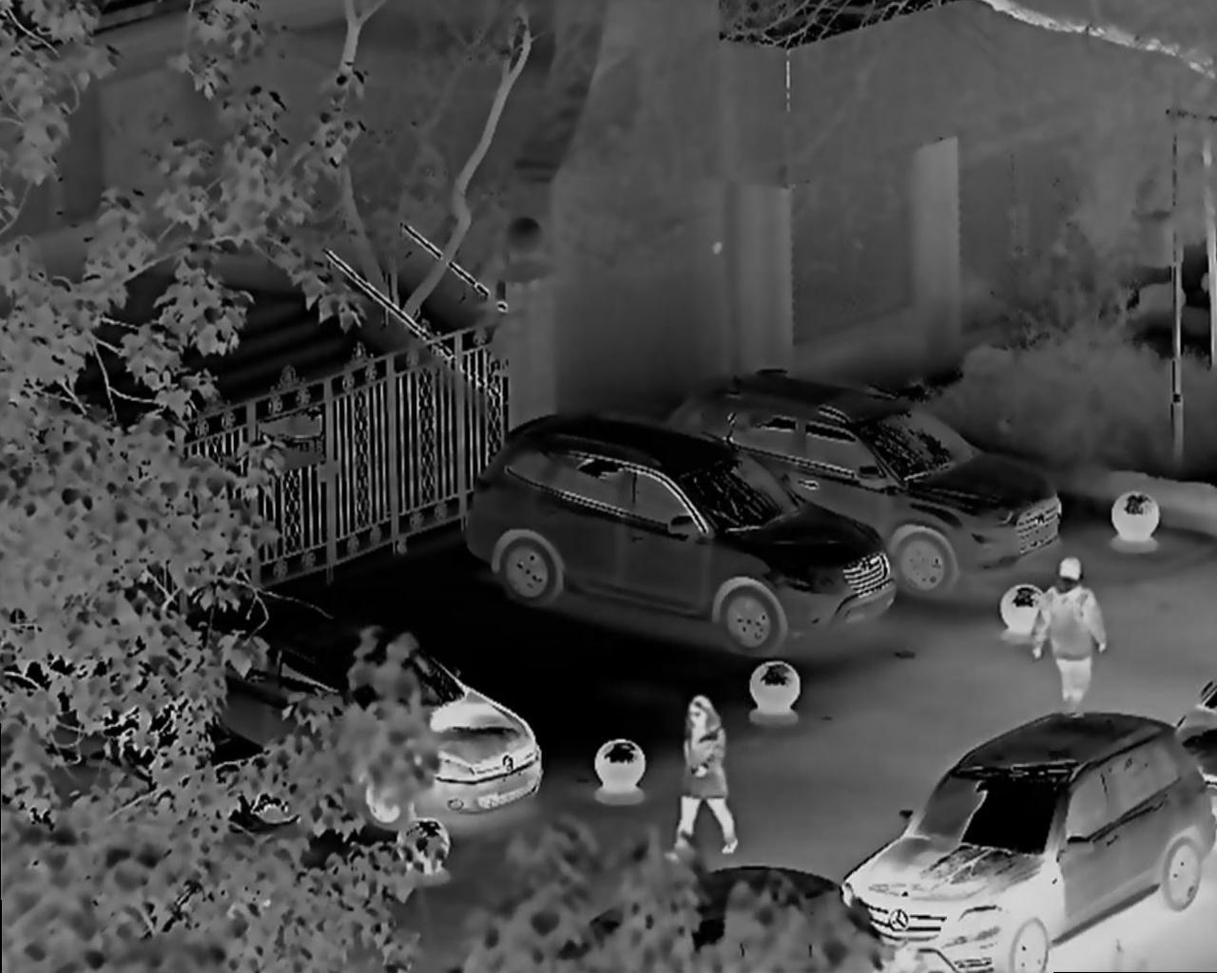person: (670, 678, 754, 849), (1027, 557, 1106, 720)
